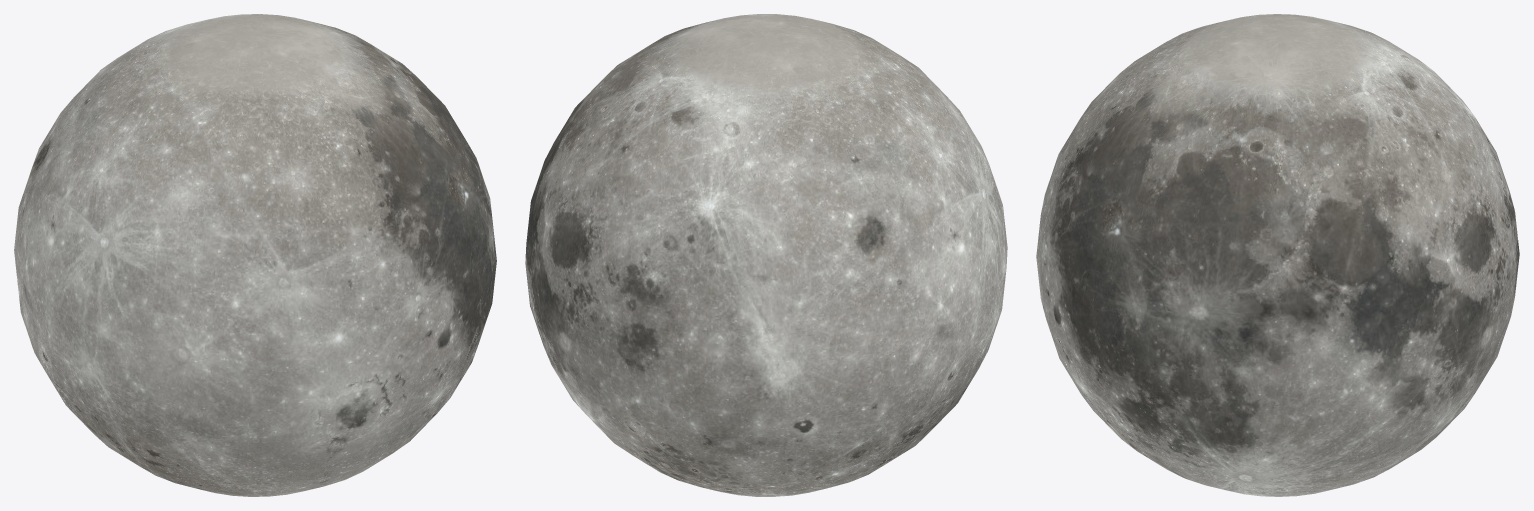
Rendered from moon.glb.
The picture shows the model from 3 angles, left to right: view 1: azimuth 30°, elevation 25°; view 2: azimuth 150°, elevation 25°; view 3: azimuth 270°, elevation 25°; orthographic projection.
Visible parts, largest first — view 1: Object_8; view 2: Object_8; view 3: Object_8.
Part boxes in pixels (x1,y1,x2,y2): Object_8: (14, 14, 496, 496); Object_8: (525, 14, 1007, 496); Object_8: (1036, 14, 1519, 496).
Bounding box in the file's own units: 2.52 × 2.52 × 2.52.
Materials: 1 (1 with a texture image).
